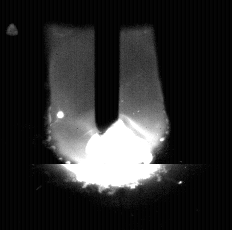arame: (95, 0, 121, 136)
poca: (52, 0, 163, 230)
